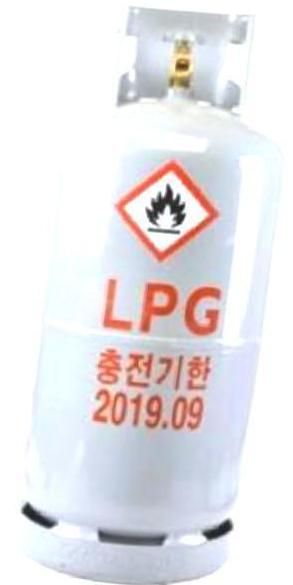cylinder: (1, 1, 293, 585)
